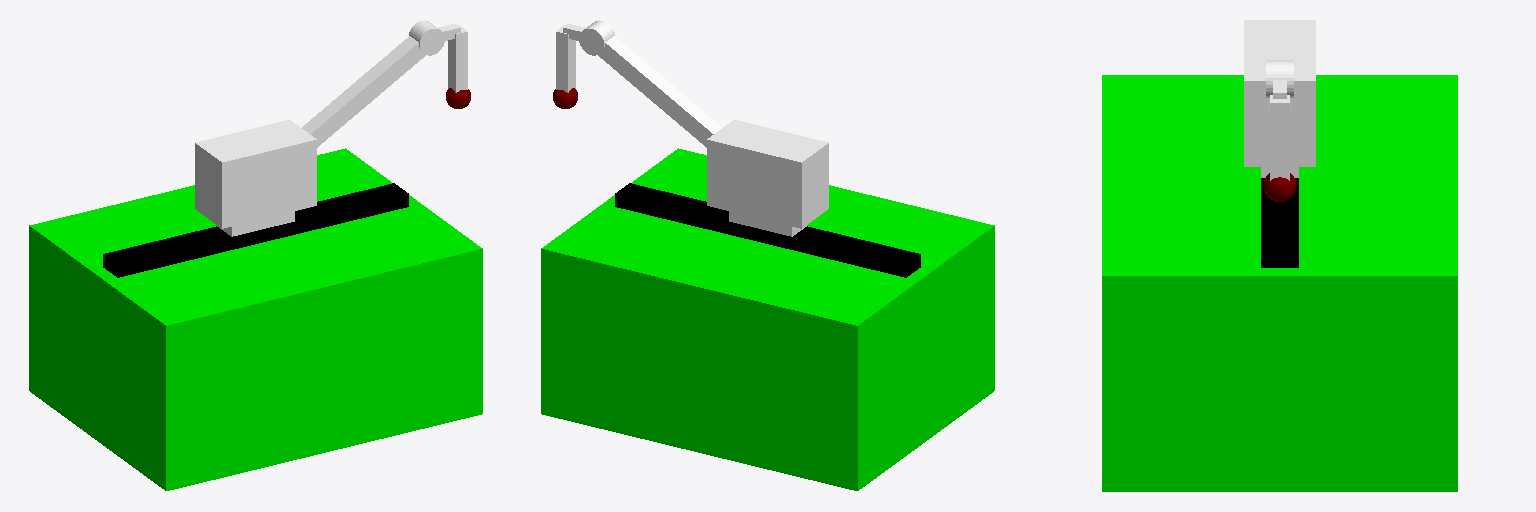
URDF robot description (pi_robot):
<robot name="pi_robot">

	<!-- * * * Link Definitions * * * -->

 	<link name="base_link">
		<visual>
		    <origin xyz="0 0 0.25" rpy="0 0 0"/>
			<geometry>
				<box size="1 0.75 .5"/>
			</geometry>
			<material name="green">
	       		<color rgba="0 1 0 1"/>
	     	</material>
		</visual>	
	</link>
	
    <link name="prismatic_base">
      <visual>
        <origin xyz="0 0 0.02" />
        <geometry>
          <box size="0.92 .08 .04" />
        </geometry>
        <material name="gray">
	       		<color rgba="0 0 0 1"/>
	    </material>
      </visual>
    </link>
 
    <joint name="worldJoint"  type="fixed">
        <origin xyz="0 0 0.5" rpy="0 0 0" />
        <parent link="base_link"/>
        <child link="prismatic_base"/>
    </joint>

	<link name="link1">
        <visual>
        	<origin xyz="0 0 0.025" />
              <geometry>
              	<box size="0.20 .08 .05" />
              </geometry>
            <material name="white">
	       		<color rgba="1 1 1 1"/>
	    	</material>
        </visual>
    </link>

    <joint name="joint1" type="prismatic">
        <origin xyz="0 0 0.04" />
        <axis xyz="1 0 0" />
        <parent link="prismatic_base"/>
        <child link="link1"/>
        <limit lower="-0.6" upper="0.8" velocity="0.5" effort="10"/>
    </joint>

	<link name="link2">
      	<visual>
        	<origin xyz="0.0 0 0.1" />
        	<geometry>
          	<box size="0.3 0.15 0.2"/>
        	</geometry>
        	<material name="white">
	       		<color rgba="1 1 1 1"/>
	    	</material>
      	</visual>
    </link>

    <joint name="joint2" type="continuous">
        <origin xyz="0 0 0.05" />
        <axis xyz="0 0 1" />
        <parent link="link1"/>
        <child link="link2"/>
    </joint>

    <link name="link3">
        <visual>
        	<origin xyz="0 0 0.225" />
          	<geometry>
          		<box size="0.05 0.05 0.45"/>
          	</geometry>
          	<material name="white">
	       		<color rgba="1 1 1 1"/>
	    	</material>
        </visual>
    </link>

    <joint name="joint3" type="revolute">
        <origin xyz="0.15 0 0.16" rpy="0.0 1.04719755 0.0"/>
        <limit upper="0.8" lower="-1.04719755" effort="10" velocity="10"/>
        <axis xyz="0 1 0" />
        <parent link="link2"/>
        <child link="link3"/>
    </joint>

	<link name="linkMimic">
      	<visual>
        	<origin xyz="0.0 0 0.0" rpy="1.570796327 0.0 0.0"/>
        	<geometry>
          		<cylinder radius="0.04" length="0.06"/>
        	</geometry>
        	<material name="white">
	       		<color rgba="1 1 1 1"/>
	    	</material>
      	</visual>
    </link>

    <joint name="jointMimic3" type="revolute">
        <origin xyz="0 0 0.45"  rpy="0.0 0.0 0.0"/>
        <axis xyz="0 1 0" />
        <parent link="link3"/>
        <child link="linkMimic"/>
        <limit upper="0.5235987759" lower="-1.04719755" effort="10" velocity="10"/>
        <mimic joint= "joint3" multiplier="-1" offset="0"/>
    </joint>

    <link name="link4">
      	<visual>
        	<origin xyz="0.0 0.0 0.05" />
        	<geometry>
          		<box size="0.03 0.03 0.1"/>
        	</geometry>
        	<material name="white">
	       		<color rgba="1 1 1 1"/>
	    	</material>
      	</visual>
    </link>

    <joint name="joint4" type="continuous">
        <origin xyz="0 0 0.0" rpy="0.0 0.5235987759 0.0"/>
        <axis xyz="0 0 1" />
        <parent link="linkMimic"/>
        <child link="link4"/>
    </joint>

    <link name="link5">
        <visual>
        	<origin xyz="0.0 0.0 0.1" />
          	<geometry>
            	<box size="0.04 0.04 0.2"/>
          	</geometry>
          	<material name="white">
	       		<color rgba="1 1 1 1"/>
	    	</material>
        </visual>
    </link>

    <joint name="joint5" type="continuous">
        <origin xyz="0 0 0.1" rpy="0.0 1.570796 0.0"/>
        <axis xyz="0 0 1" />
        <parent link="link4"/>
        <child link="link5"/>
    </joint>

    <link name="link6">
        <visual>
          	<origin xyz="0.0 0.0 0.0" />
          	<geometry>
            	<sphere radius="0.035"/>
          	</geometry>
          	<material name="red">
	       		<color rgba="0.5 0 0 1"/>
	    	</material>
        </visual>
    </link>

    <joint name="joint6" type="revolute">
        <origin xyz="0 0 0.2" rpy="0.0 0.0 0.0"/>
        <limit upper="1.570796" lower="-1.570796" effort="10" velocity="10" />
        <axis xyz="0 1 0" />
        <parent link="link5"/>
        <child link="link6"/>
    </joint>
</robot>

--- What the picture shows (computed from the rendered views, not written in the file) ---
The picture shows the robot from 3 angles, left to right: view 1: azimuth 30°, elevation 25°; view 2: azimuth 150°, elevation 25°; view 3: azimuth 270°, elevation 25°; orthographic projection.
Model pi_robot with 9 links and 8 joints (3 revolute, 3 continuous, 1 prismatic, 1 fixed), rooted at base_link, posed every joint at zero.
Visible links, largest first — view 1: base_link, link2, prismatic_base, link3, link5, linkMimic, link1; view 2: base_link, link2, prismatic_base, link3, link5, linkMimic, link1; view 3: base_link, link2, prismatic_base, link5, linkMimic, link6.
Boxes of the visible links, x1=… form: base_link: x1=29, y1=148, x2=482, y2=490; link2: x1=195, y1=120, x2=316, y2=228; prismatic_base: x1=103, y1=183, x2=408, y2=277; link3: x1=302, y1=36, x2=425, y2=147; link5: x1=448, y1=26, x2=467, y2=92; linkMimic: x1=409, y1=20, x2=444, y2=55; link1: x1=217, y1=211, x2=294, y2=236; base_link: x1=541, y1=148, x2=994, y2=490; link2: x1=707, y1=120, x2=828, y2=228; prismatic_base: x1=615, y1=183, x2=920, y2=277; link3: x1=598, y1=36, x2=721, y2=147; link5: x1=556, y1=26, x2=575, y2=92; linkMimic: x1=579, y1=20, x2=614, y2=55; link1: x1=729, y1=211, x2=806, y2=236; base_link: x1=1102, y1=75, x2=1457, y2=491; link2: x1=1244, y1=20, x2=1315, y2=166; prismatic_base: x1=1261, y1=178, x2=1298, y2=267; link5: x1=1270, y1=95, x2=1289, y2=180; linkMimic: x1=1266, y1=60, x2=1293, y2=97; link6: x1=1263, y1=173, x2=1296, y2=201.
Bounding box of the posed robot: 1.17 × 0.75 × 1.01 m (x, y, z).
Geometry: primitives only (box / cylinder / sphere), no mesh files.
